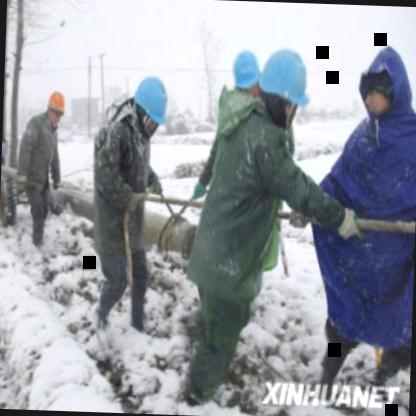helmet: (258, 42, 312, 134), (128, 68, 174, 146), (230, 46, 263, 102), (45, 87, 69, 128)
